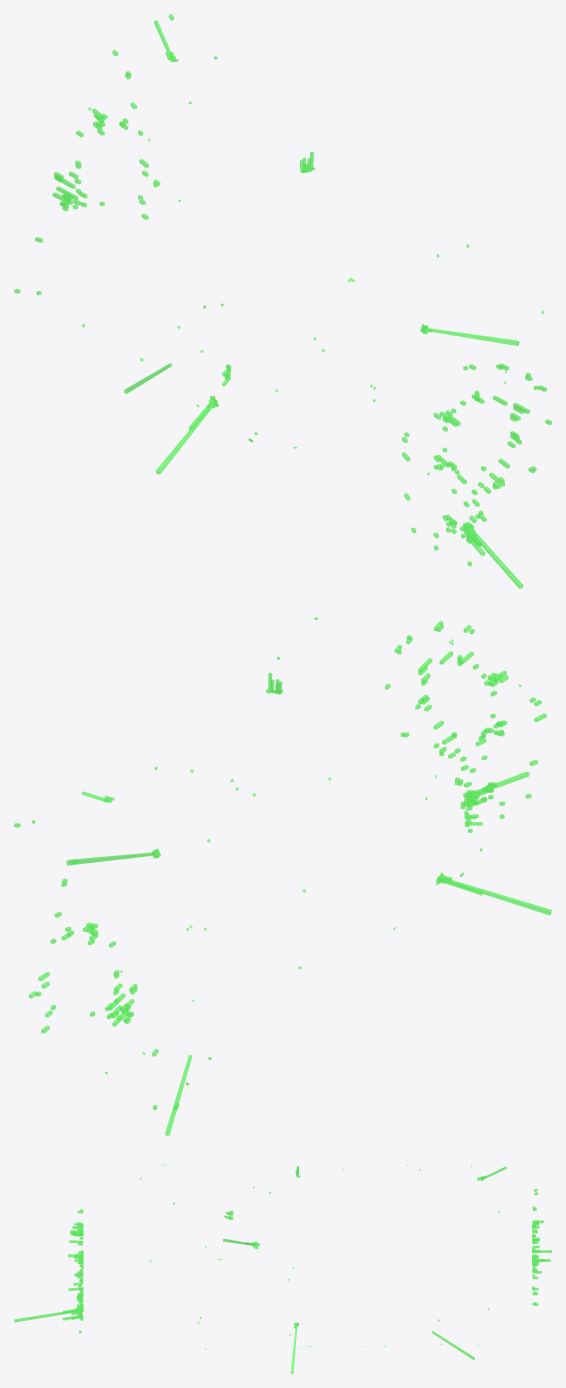
3 renders of one model, top to bottom at view 1: azimuth 30°, elevation 25°; view 2: azimuth 150°, elevation 25°; view 3: azimuth 270°, elevation 25°, orthographic. The views are drawn at different scales.
Parts seen in each view (by area): view 1: EERecHits_V2, EBRecHits_V2; view 2: EERecHits_V2, EBRecHits_V2; view 3: EERecHits_V2, EBRecHits_V2.
Boxes of the visible parts, x1,y1,x2,y2 form: EERecHits_V2: [14, 14, 551, 588]; EBRecHits_V2: [82, 20, 543, 475]; EERecHits_V2: [14, 621, 546, 1109]; EBRecHits_V2: [32, 617, 551, 1135]; EERecHits_V2: [14, 1188, 551, 1333]; EBRecHits_V2: [140, 1164, 506, 1373].
Size of what is drawn, in the model's own units: 4.21 by 3.29 by 7.62.
